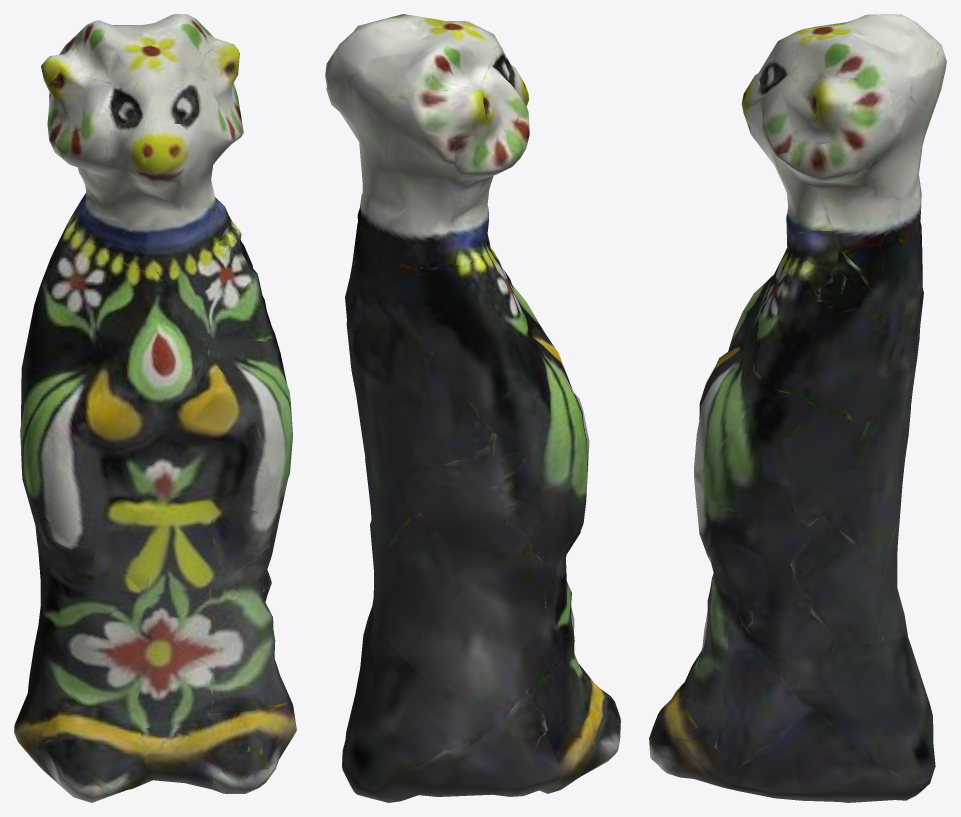
The model's file is hall.glb.
3 views of the same model, side by side, from view 1: azimuth 30°, elevation 25°; view 2: azimuth 150°, elevation 25°; view 3: azimuth 270°, elevation 25° (orthographic). The views are drawn at different scales.
Bounding box in the file's own units: 0.311 × 0.9341 × 0.3339.
Materials: 1 (1 with a texture image).
